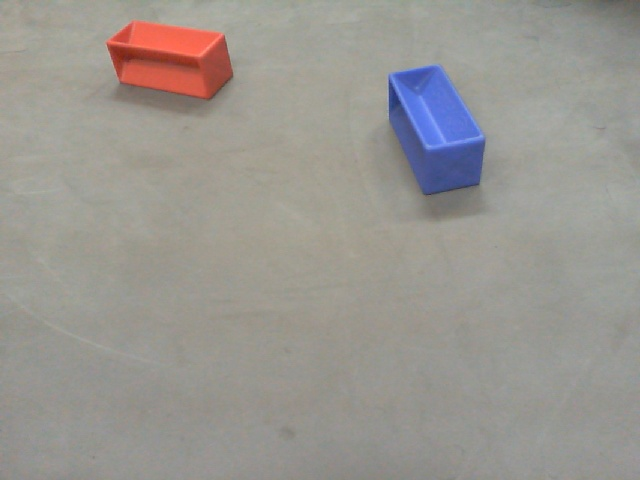BlueSample: (385, 62, 487, 200)
RedSample: (101, 21, 241, 104)
